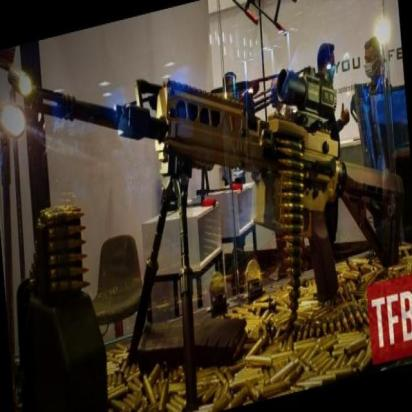Gun: (27, 63, 405, 309)
